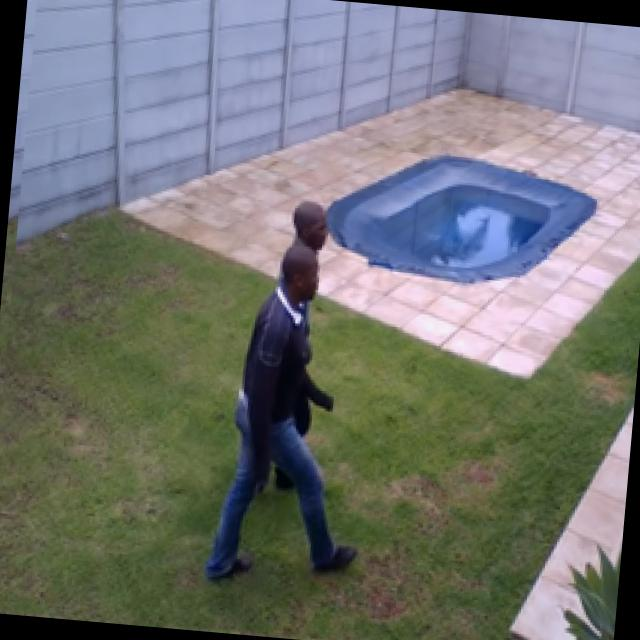person: (204, 237, 383, 594), (255, 198, 350, 494)
